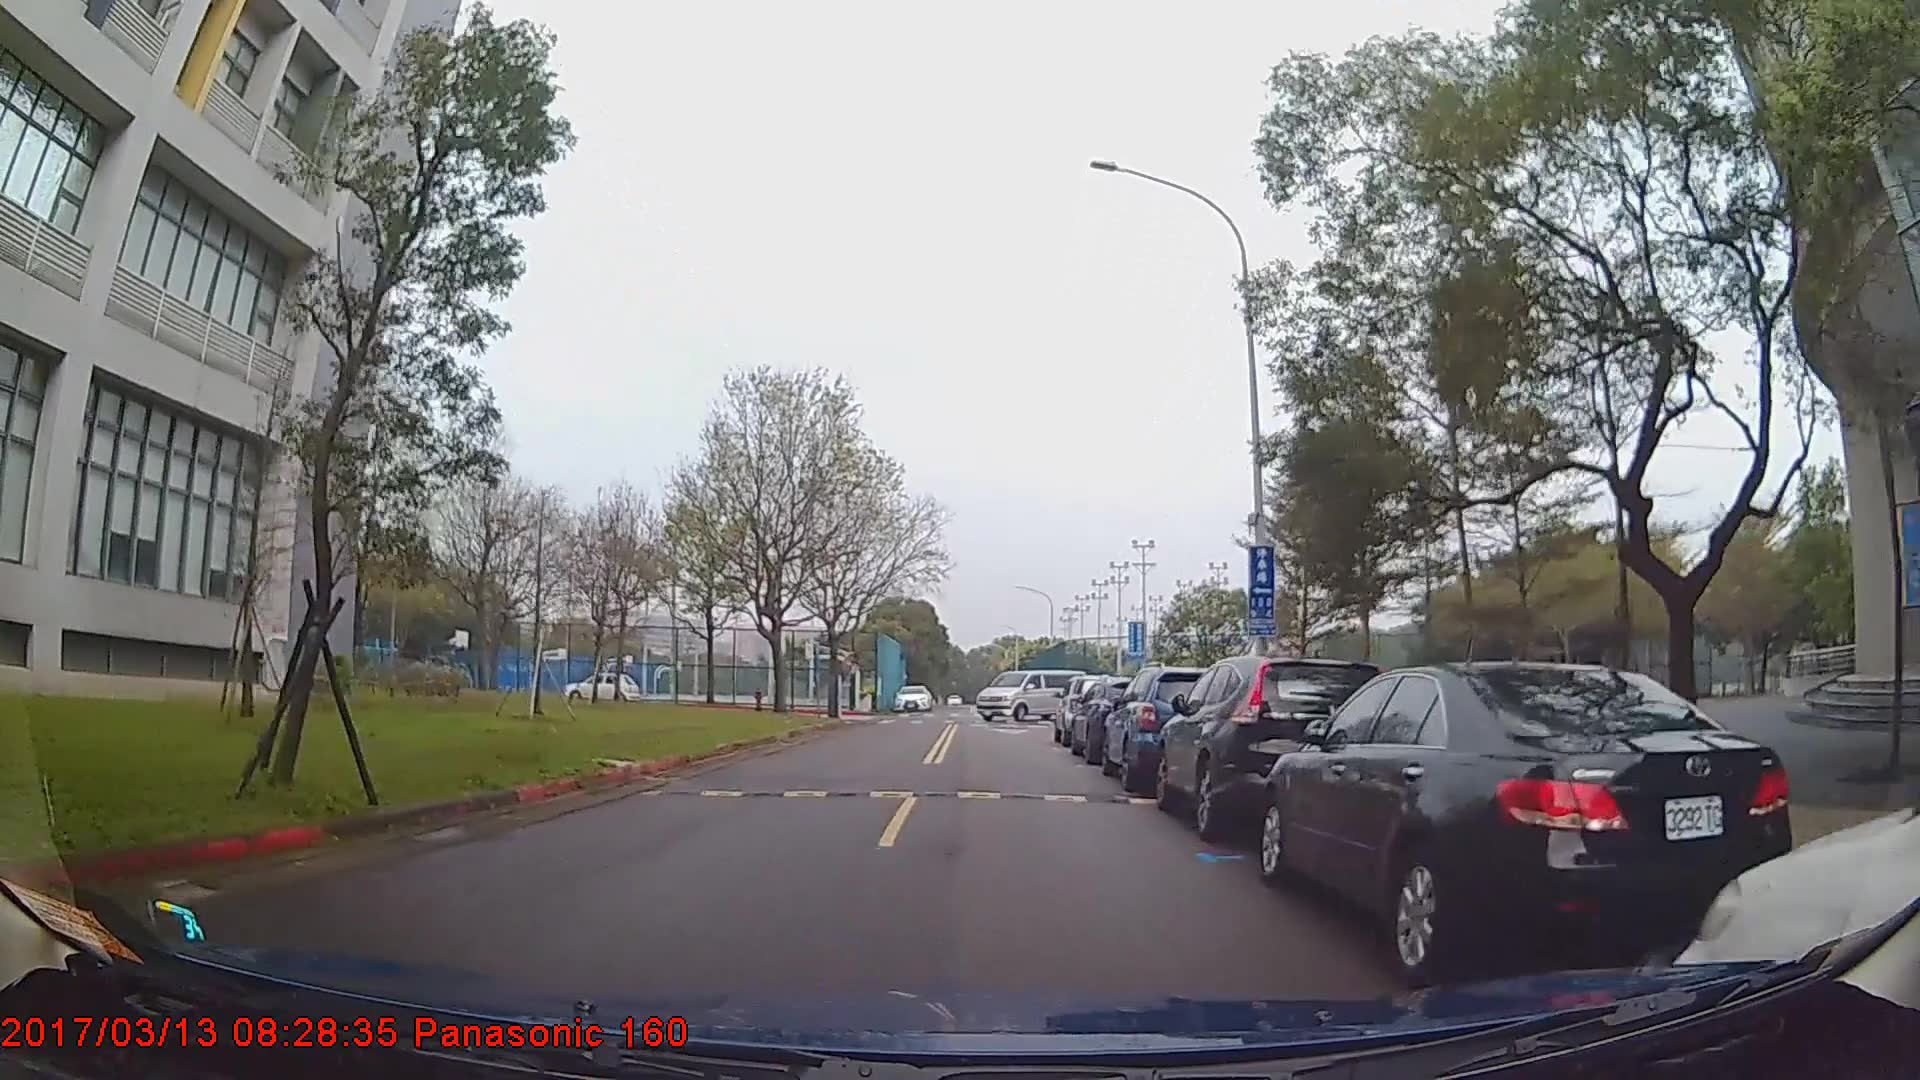vehicle: (1259, 658, 1792, 986), (1153, 651, 1389, 837), (1101, 665, 1228, 789), (977, 669, 1088, 720), (562, 671, 641, 703), (893, 684, 934, 713)
